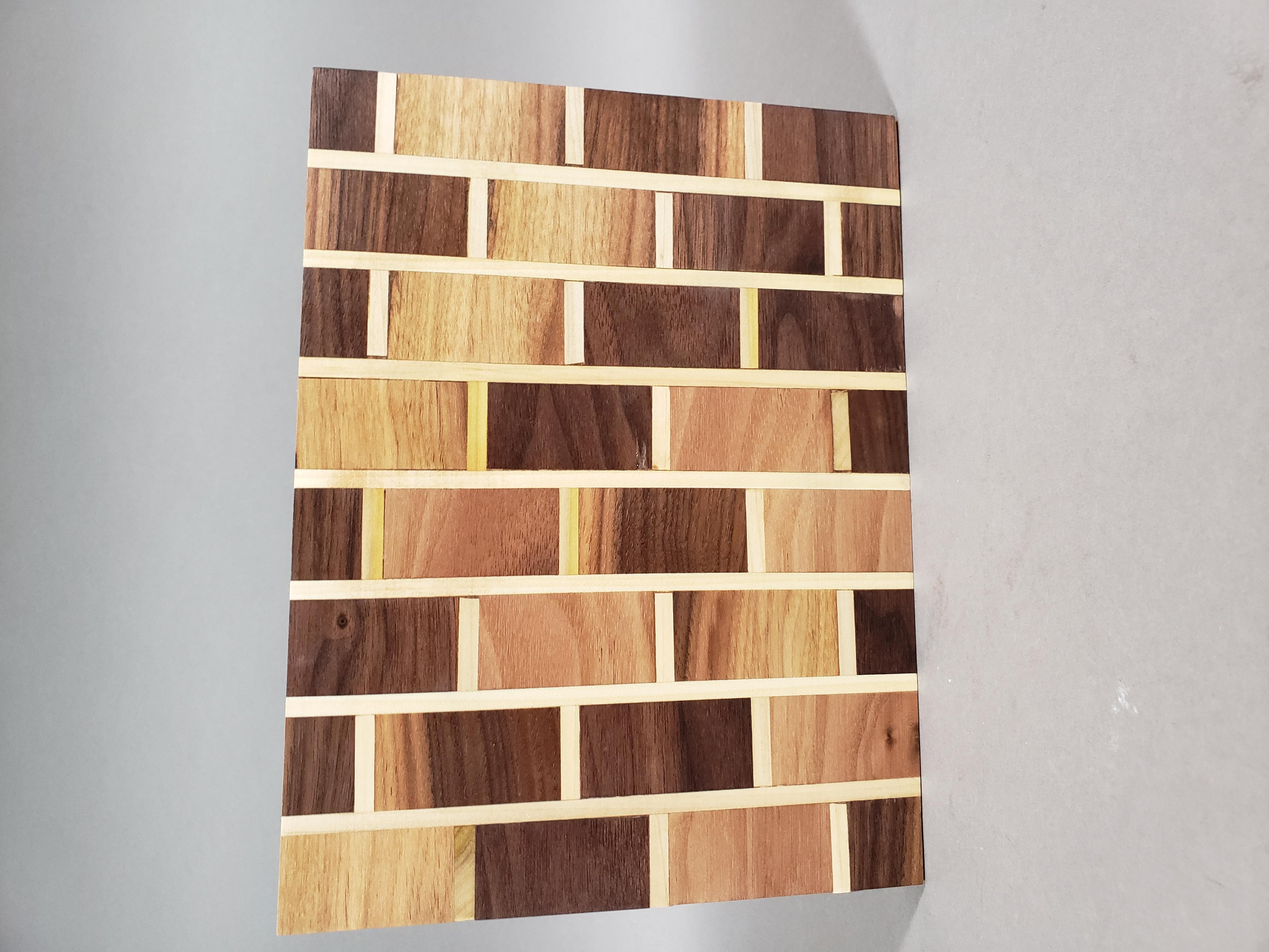gloved_hand: (4, 252, 912, 942)
